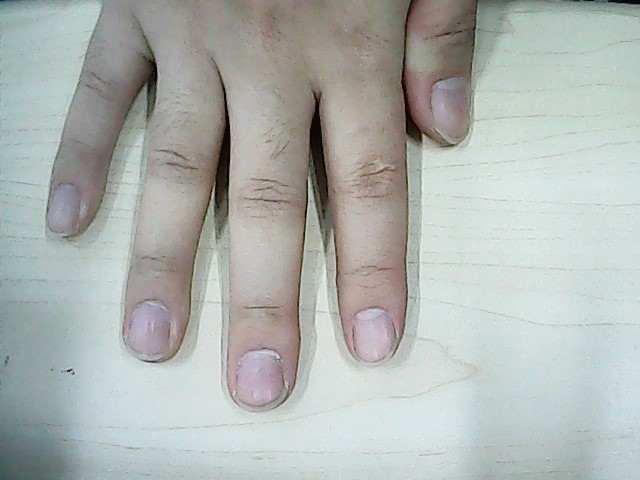nail: (234, 347, 287, 412), (430, 78, 472, 148), (124, 300, 170, 362), (351, 306, 398, 366), (42, 182, 81, 240)
